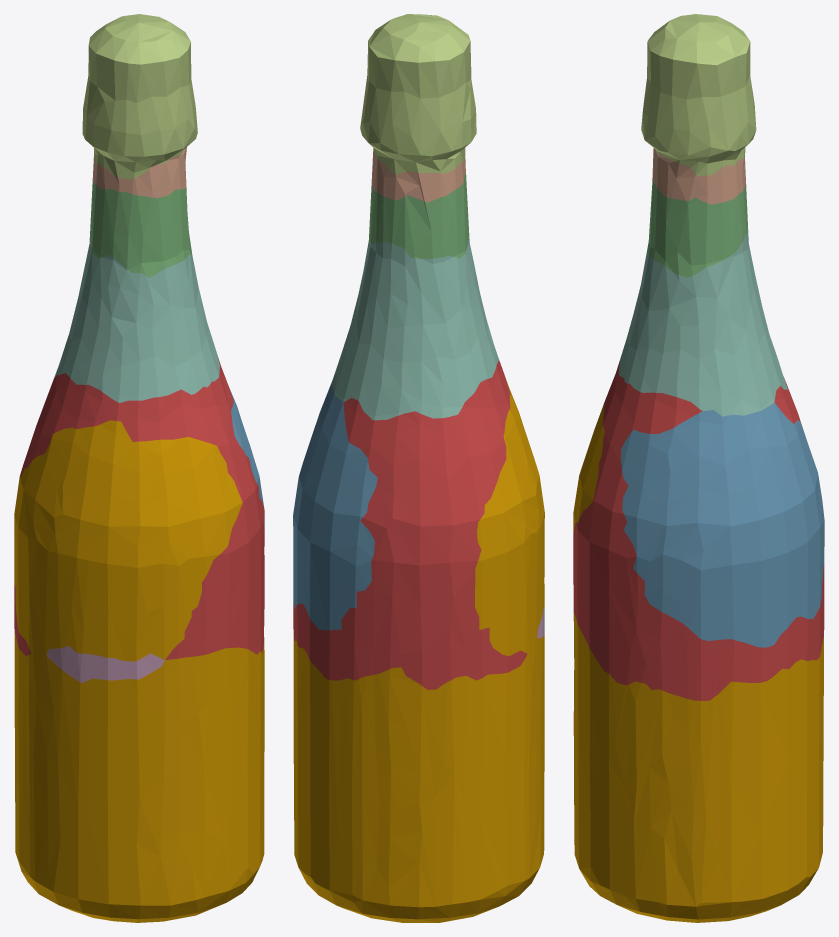
The model's file is fractured_72_8pcs.glb.
3 renders of one model, left to right at view 1: azimuth 30°, elevation 25°; view 2: azimuth 150°, elevation 25°; view 3: azimuth 270°, elevation 25°, orthographic.
Visible parts, largest first — view 1: piece_0.obj, piece_1.obj, piece_4.obj, piece_5.obj, piece_3.obj, piece_6.obj, piece_7.obj, piece_2.obj; view 2: piece_0.obj, piece_1.obj, piece_4.obj, piece_5.obj, piece_2.obj, piece_3.obj, piece_7.obj; view 3: piece_0.obj, piece_2.obj, piece_1.obj, piece_4.obj, piece_5.obj, piece_3.obj, piece_7.obj.
Boxes of the visible parts, bbox=[...] form: piece_0.obj: bbox=[14, 420, 264, 922]; piece_1.obj: bbox=[14, 358, 264, 660]; piece_4.obj: bbox=[54, 239, 219, 402]; piece_5.obj: bbox=[82, 14, 197, 179]; piece_3.obj: bbox=[89, 180, 191, 277]; piece_6.obj: bbox=[46, 645, 164, 682]; piece_7.obj: bbox=[92, 147, 186, 198]; piece_2.obj: bbox=[229, 388, 264, 526]; piece_0.obj: bbox=[293, 377, 544, 922]; piece_1.obj: bbox=[293, 361, 527, 689]; piece_4.obj: bbox=[331, 240, 499, 420]; piece_5.obj: bbox=[360, 14, 476, 174]; piece_2.obj: bbox=[293, 373, 377, 630]; piece_3.obj: bbox=[368, 173, 469, 259]; piece_7.obj: bbox=[371, 151, 465, 202]; piece_0.obj: bbox=[573, 403, 823, 922]; piece_2.obj: bbox=[621, 402, 824, 647]; piece_1.obj: bbox=[573, 361, 824, 700]; piece_4.obj: bbox=[618, 229, 787, 416]; piece_5.obj: bbox=[641, 14, 756, 175]; piece_3.obj: bbox=[647, 178, 747, 277]; piece_7.obj: bbox=[652, 148, 745, 204].
Size of the model in its own units: 0.2633 by 1 by 0.2631.
